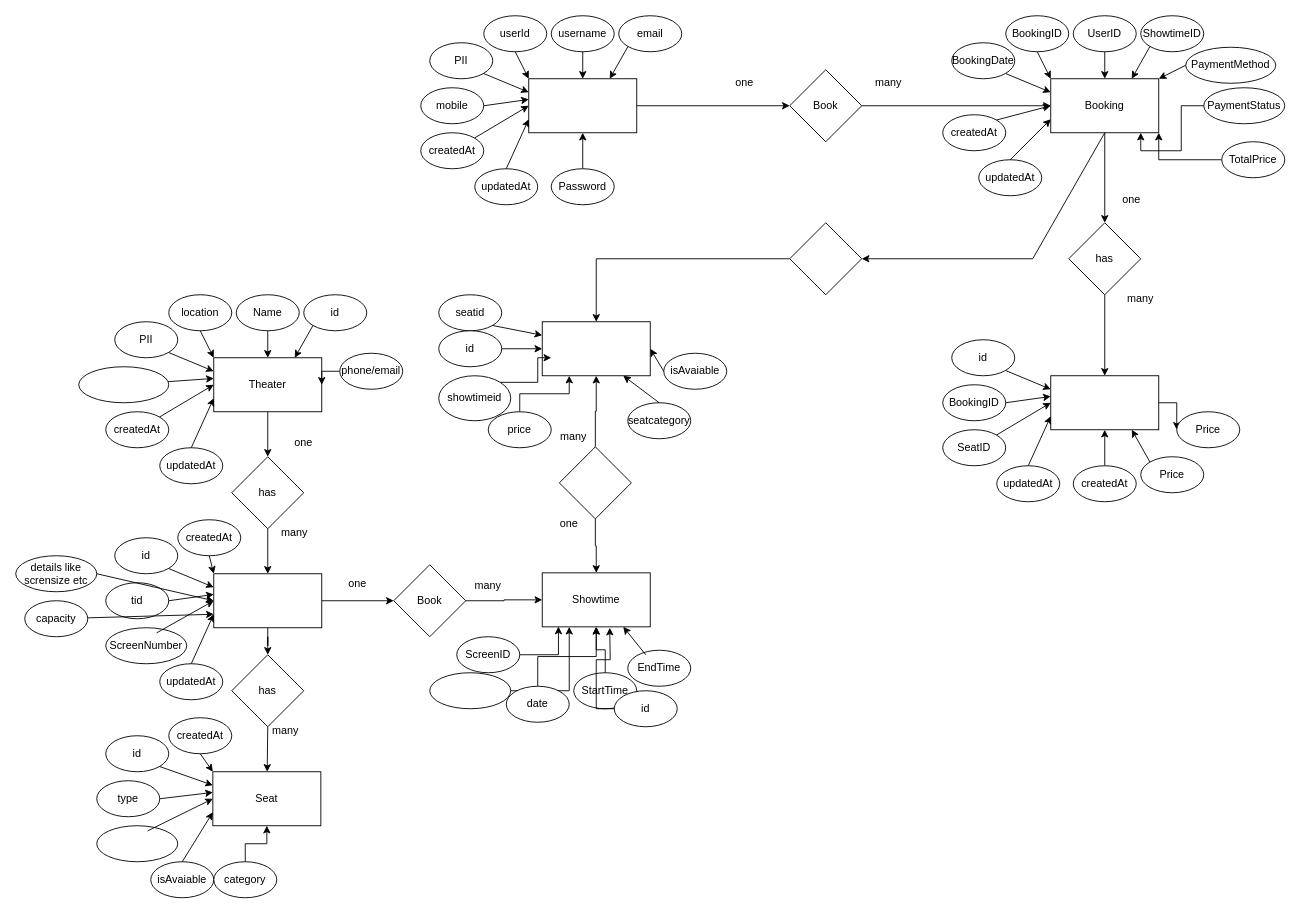
This 1301x914 diagram has some shape labels left out. The centre of each missing label's shape, as x and y in pixels:
"#ofScreens" belongs at pixel 123 384.
"BookingDetails" belongs at pixel 1104 402.
"Containes" belongs at pixel 594 482.
"contains" belongs at pixel 825 258.
"inventory" belongs at pixel 595 348.
"MovieID" belongs at pixel 470 690.
"Screen" belongs at pixel 267 600.
"SeatNumber" belongs at pixel 137 843.
"User" belongs at pixel 582 105.
